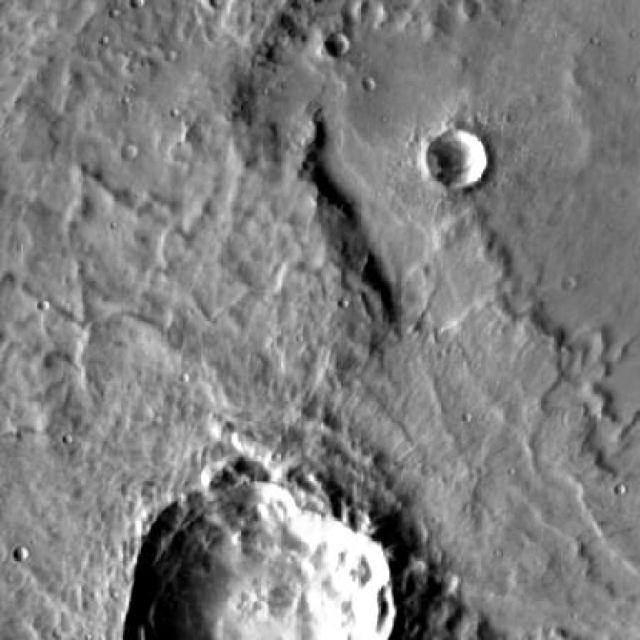crater: (128, 484, 399, 640), (425, 129, 486, 188), (325, 33, 350, 56), (368, 4, 390, 25), (559, 275, 576, 290)
